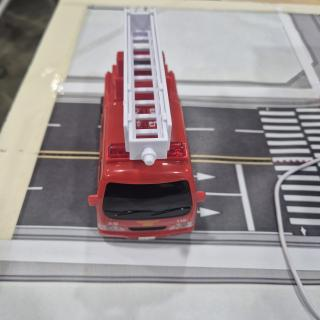Fire_truck: (88, 10, 206, 240)
